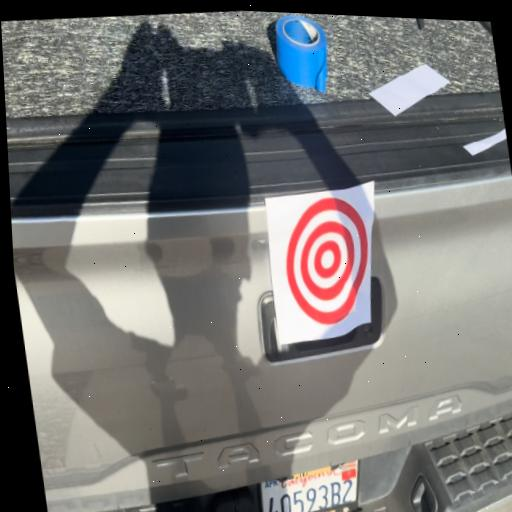bullseye: (272, 182, 374, 343)
